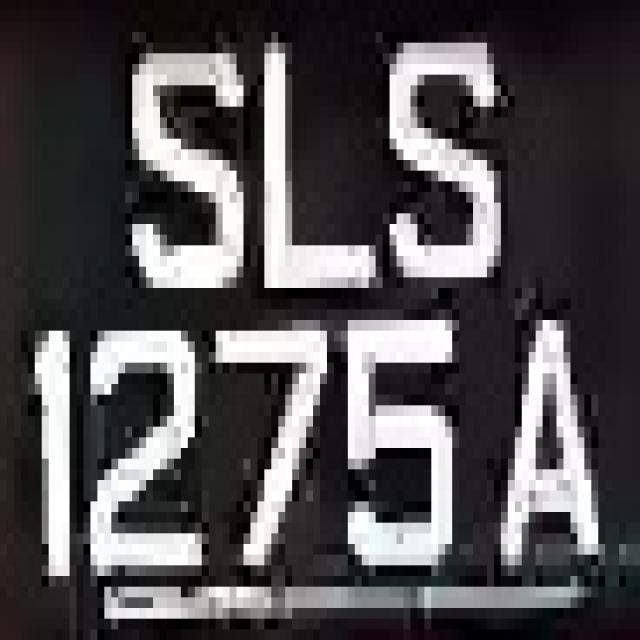1: (0, 4, 1, 10)
2: (83, 288, 202, 619)
5: (348, 288, 459, 565)
7: (202, 277, 327, 576)
A: (473, 288, 619, 597)
L: (243, 21, 348, 320)
S: (368, 11, 514, 309), (125, 11, 258, 309)
